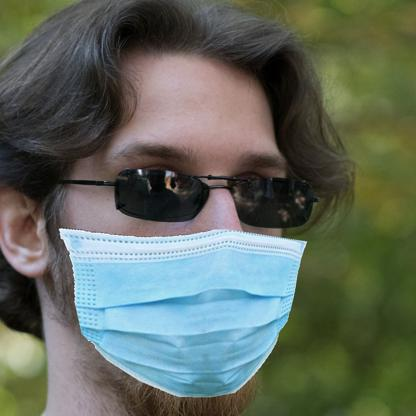mask: (57, 226, 308, 399)
